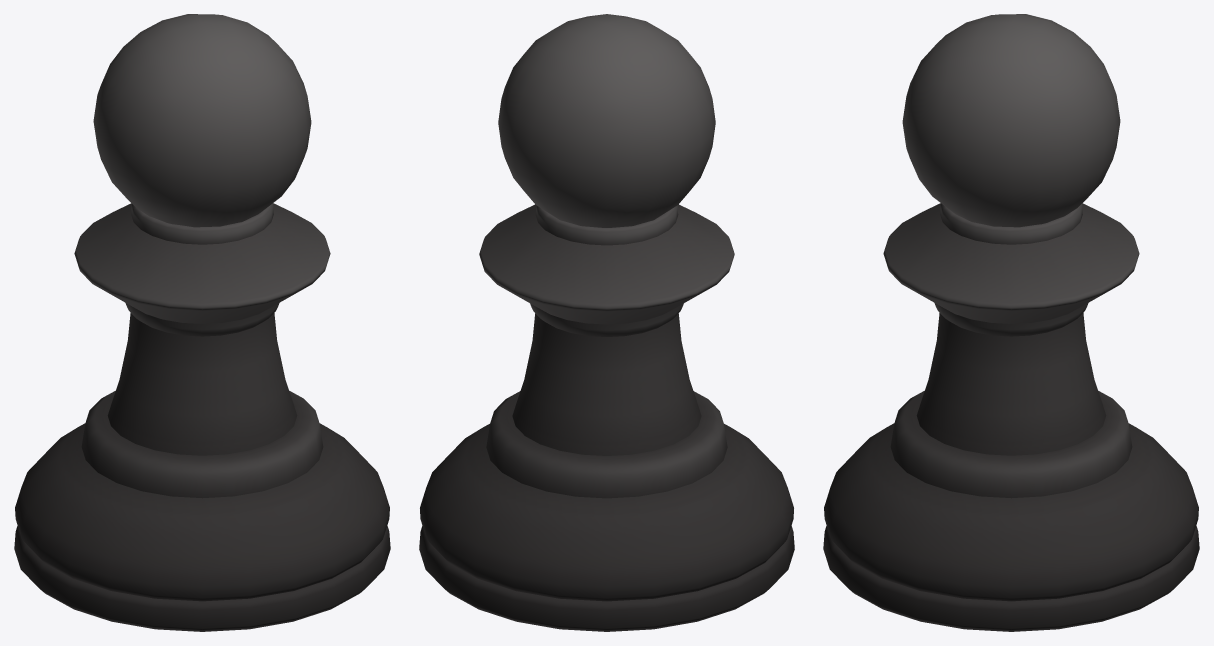
The model's file is Chess_Black_Pawn_01.fbx.
3 renders of one model, left to right at view 1: azimuth 30°, elevation 25°; view 2: azimuth 150°, elevation 25°; view 3: azimuth 270°, elevation 25°, orthographic.
Parts seen in each view (by area): view 1: Chess_Black_Pawn_01; view 2: Chess_Black_Pawn_01; view 3: Chess_Black_Pawn_01.
Boxes of the visible parts, x1,y1,x2,y2 form: Chess_Black_Pawn_01: (14, 14, 390, 631); Chess_Black_Pawn_01: (419, 14, 794, 631); Chess_Black_Pawn_01: (823, 14, 1199, 631).
Bounding box in the file's own units: 2.87 × 4.54 × 2.88.
